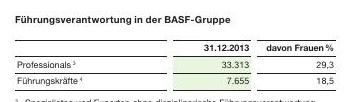table: (0, 0, 350, 102)
